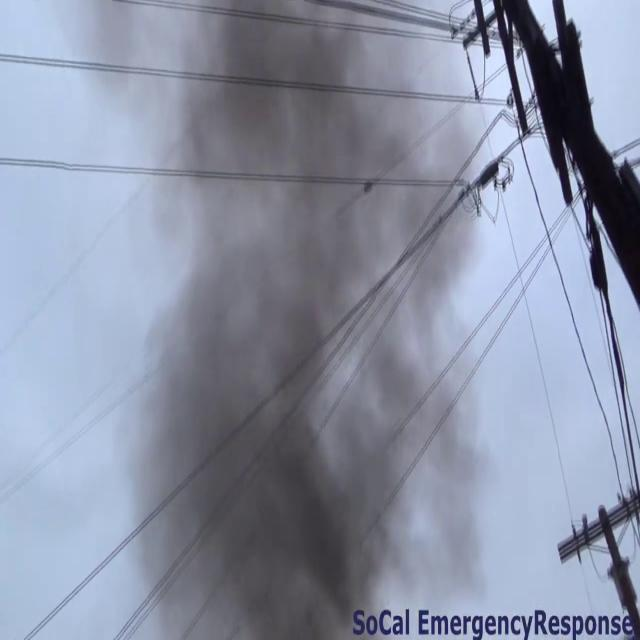Smoke: (54, 2, 486, 636)
